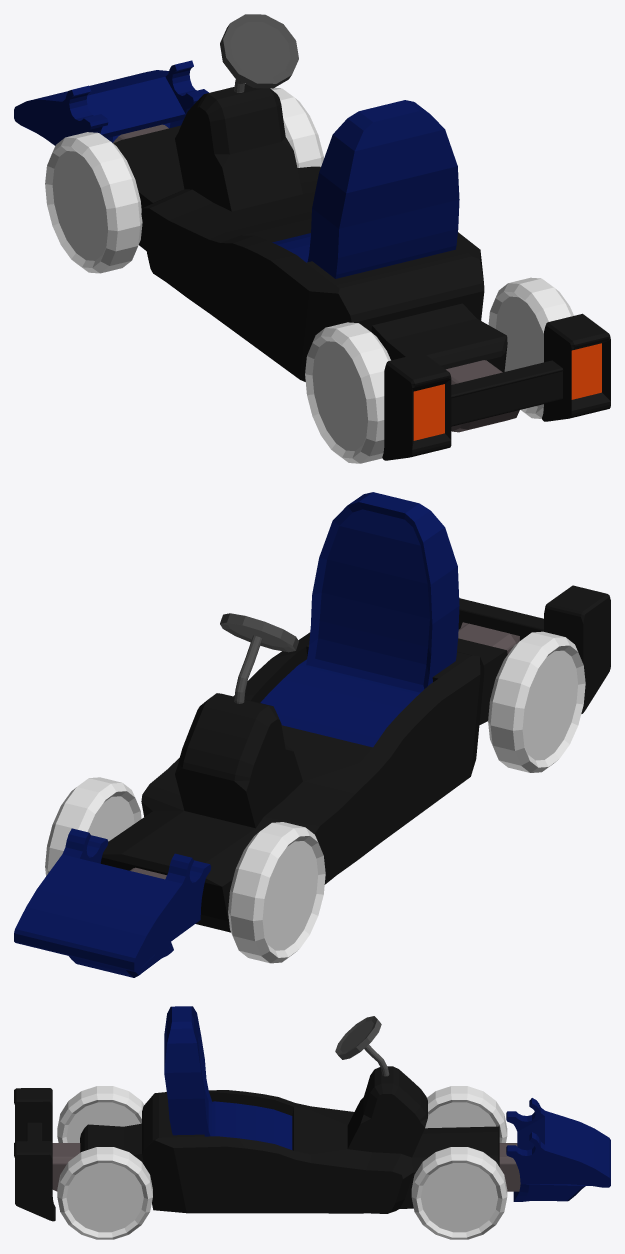
The model's file is RaceCar_Color.glb.
3 renders of one model, top to bottom at view 1: azimuth 30°, elevation 25°; view 2: azimuth 150°, elevation 25°; view 3: azimuth 270°, elevation 25°, orthographic. The views are drawn at different scales.
Visible parts, largest first — view 1: Cube.001, LF_W, LB_W, RB_W, RF_W; view 2: Cube.001, LB_W, LF_W, RF_W; view 3: Cube.001, RF_W, RB_W, LB_W, LF_W.
Boxes of the visible parts, x1,y1,x2,y2 form: Cube.001: [14, 14, 610, 460]; LF_W: [45, 132, 142, 273]; LB_W: [305, 322, 390, 463]; RB_W: [488, 277, 573, 418]; RF_W: [270, 87, 323, 167]; Cube.001: [14, 492, 610, 977]; LB_W: [488, 631, 585, 772]; LF_W: [228, 822, 325, 963]; RF_W: [45, 777, 141, 875]; Cube.001: [14, 1006, 610, 1221]; RF_W: [411, 1147, 507, 1239]; RB_W: [57, 1147, 152, 1239]; LB_W: [57, 1086, 143, 1142]; LF_W: [425, 1086, 507, 1142].
Size of the model in its own units: 49.93 by 61.73 by 174.
